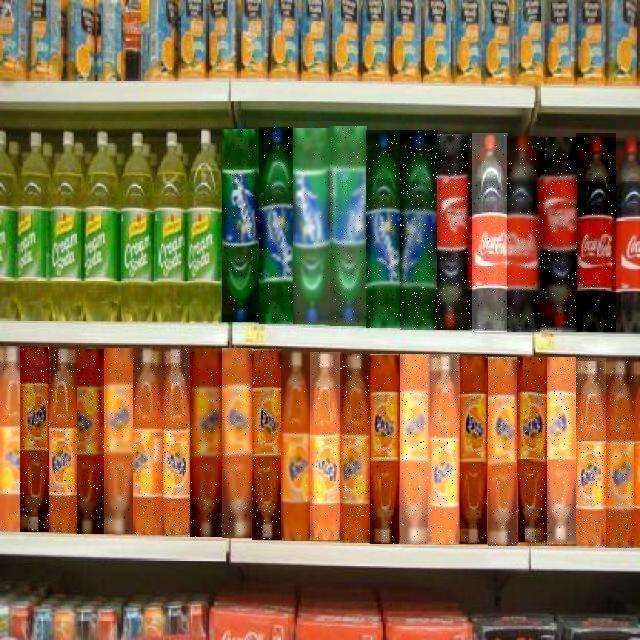Drinks: (576, 133, 616, 332), (400, 130, 438, 330), (330, 126, 367, 326), (222, 129, 260, 322), (293, 128, 330, 324), (472, 133, 508, 332), (366, 130, 402, 328), (259, 127, 295, 324), (541, 138, 577, 332), (438, 135, 472, 331), (508, 136, 542, 332), (428, 354, 460, 544), (190, 349, 222, 537), (222, 348, 253, 538), (340, 354, 371, 543), (310, 352, 341, 540), (252, 349, 282, 540), (576, 358, 606, 547), (518, 358, 548, 546), (48, 347, 78, 533), (370, 354, 399, 544), (400, 354, 429, 544), (488, 357, 517, 546), (281, 351, 310, 539), (547, 358, 576, 546), (20, 346, 49, 532), (133, 349, 162, 535), (606, 358, 634, 548), (162, 349, 190, 537), (459, 356, 487, 544), (105, 349, 133, 535), (78, 349, 106, 534), (0, 346, 20, 531)
